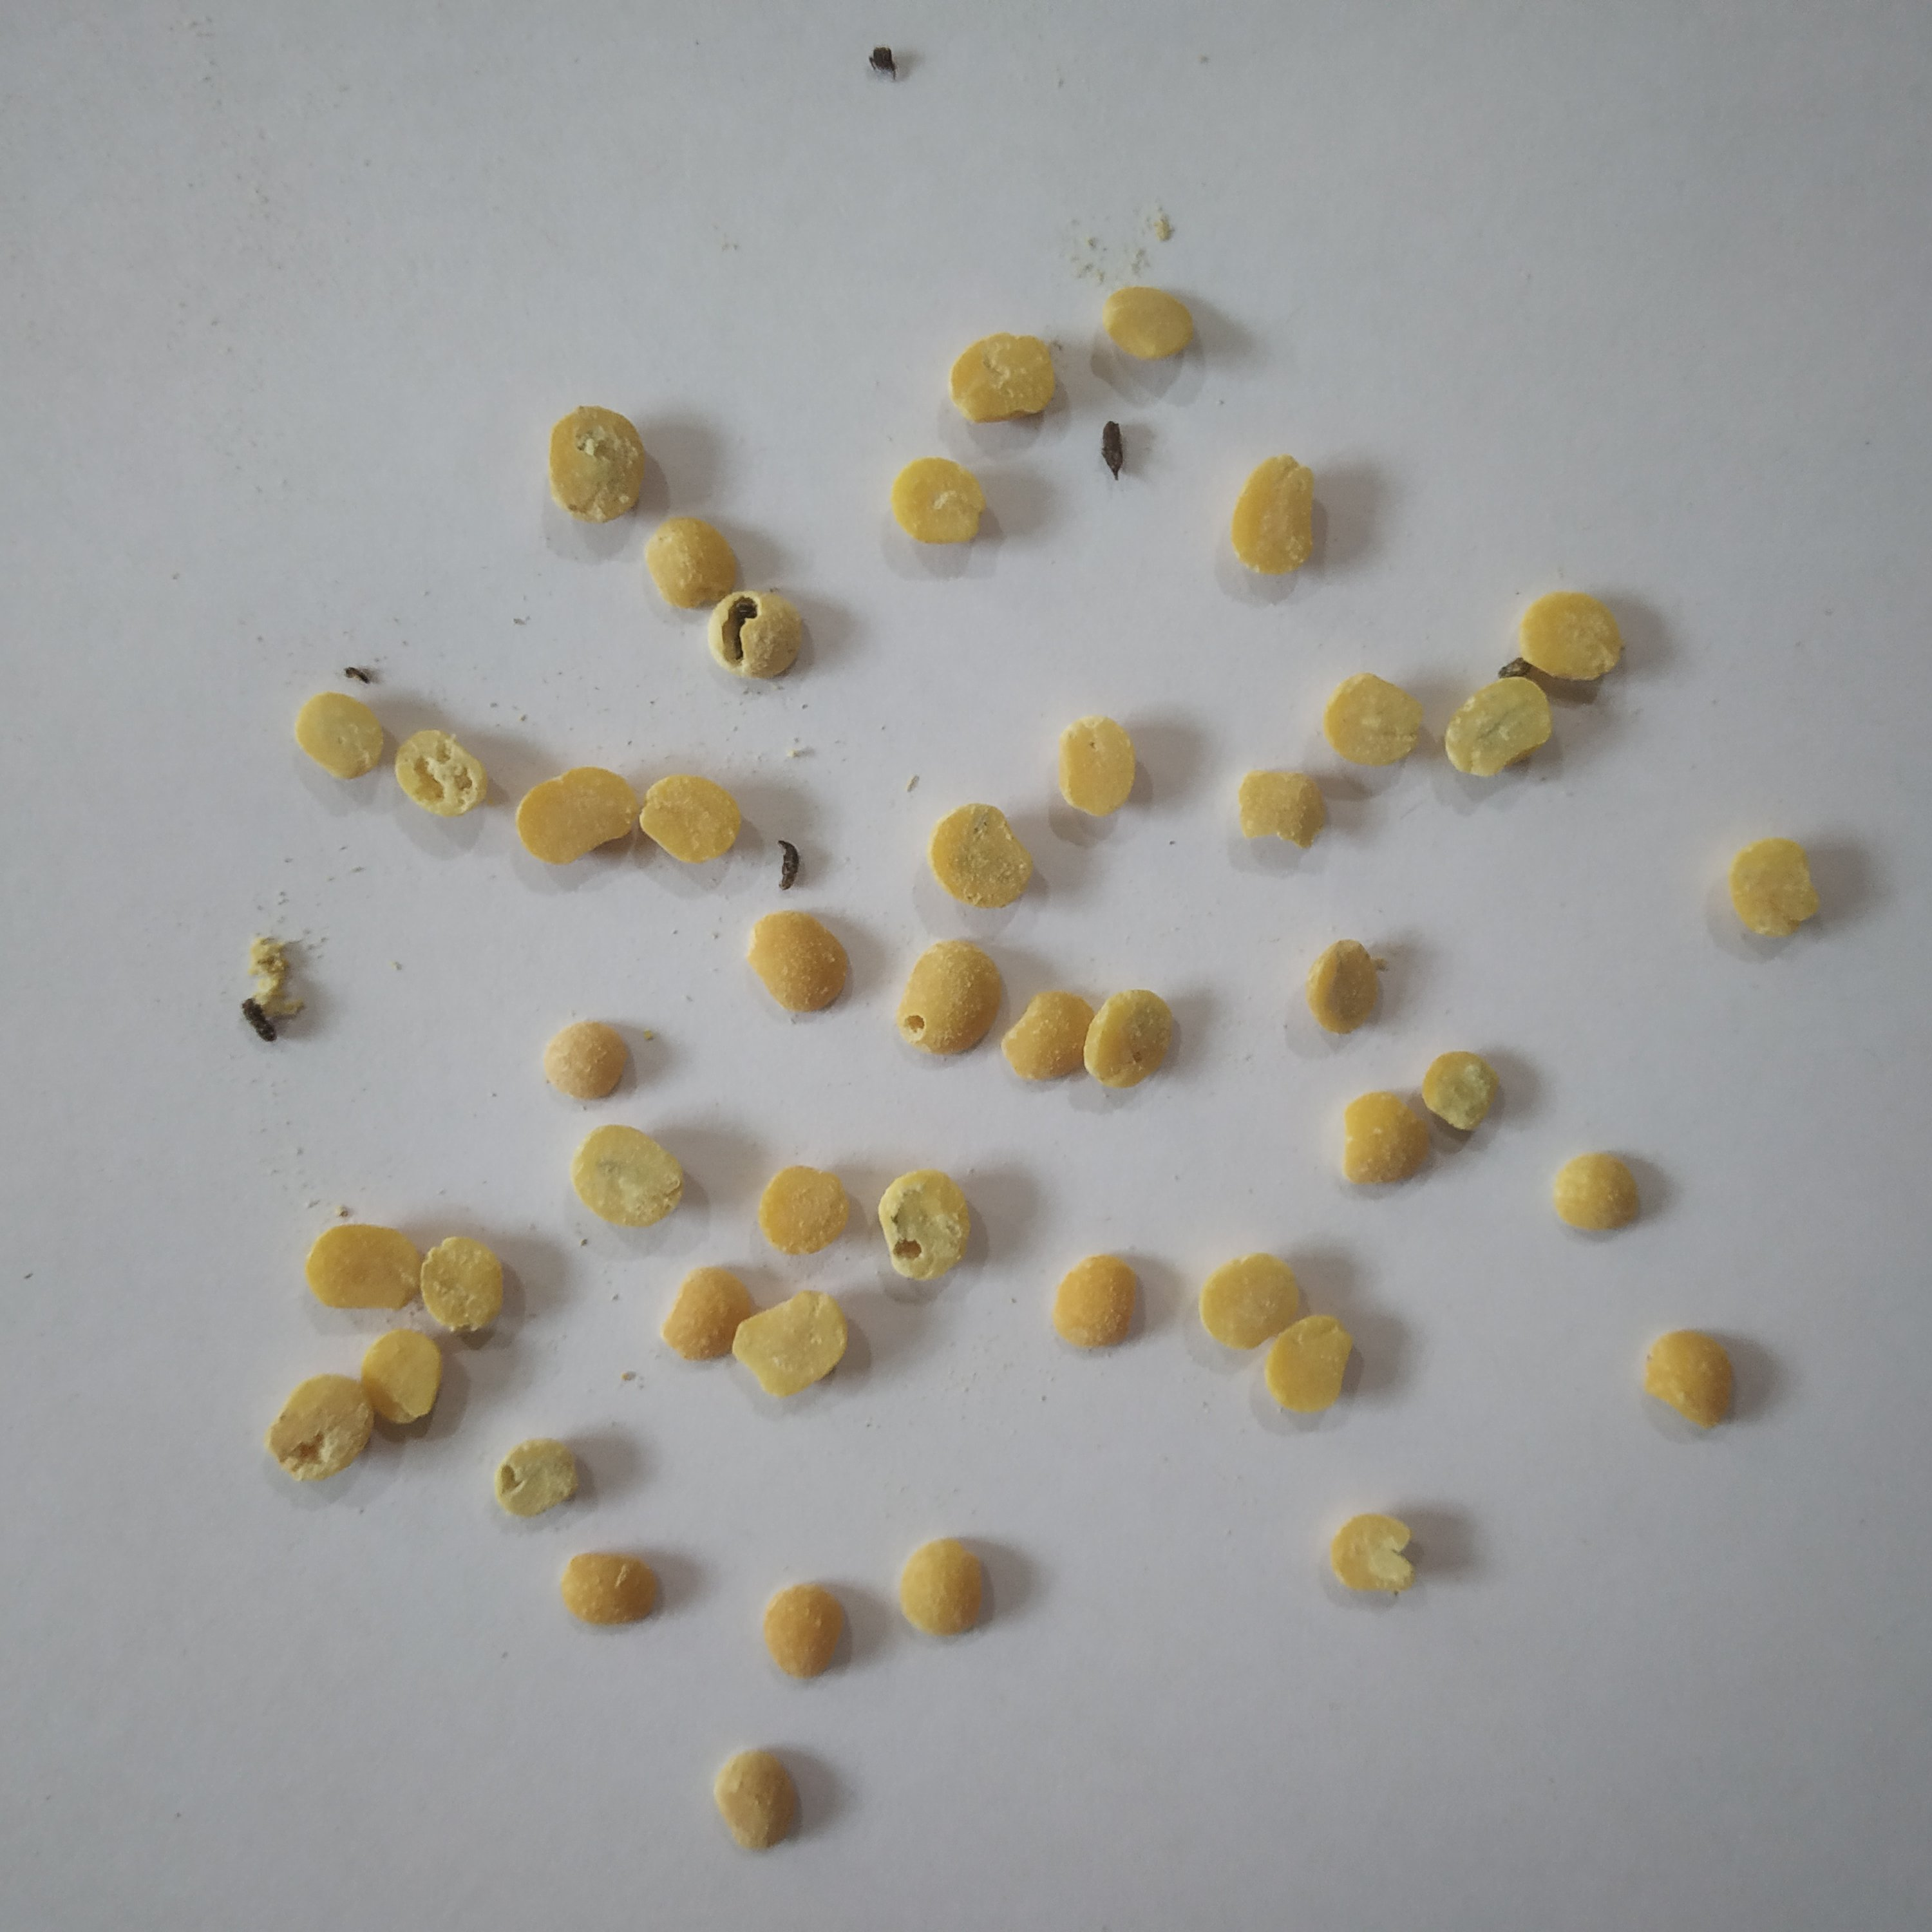Broken Toor Dal: (727, 1286, 851, 1405), (1442, 674, 1559, 782), (1226, 453, 1318, 580), (1320, 669, 1433, 770), (1638, 1325, 1736, 1433), (656, 1261, 752, 1364), (998, 987, 1093, 1083), (1235, 764, 1329, 853), (241, 931, 308, 1049)
Good Toor Dal: (566, 1122, 686, 1233), (511, 763, 639, 865), (924, 800, 1037, 915), (1192, 1246, 1307, 1352), (743, 908, 853, 1017), (945, 327, 1058, 428), (1514, 587, 1628, 686), (1723, 833, 1826, 941), (1261, 1309, 1359, 1422), (303, 1223, 426, 1311), (888, 455, 996, 552), (1336, 1086, 1435, 1191), (635, 775, 747, 867), (414, 1230, 508, 1338), (755, 1159, 853, 1261), (761, 1580, 855, 1686), (711, 1744, 798, 1856), (895, 1534, 987, 1638), (640, 517, 741, 610), (1051, 1251, 1141, 1355), (1053, 709, 1139, 817), (288, 688, 386, 782), (356, 1329, 446, 1428), (554, 1548, 660, 1629), (1550, 1148, 1642, 1237), (538, 1019, 632, 1106), (1302, 936, 1384, 1035), (1099, 285, 1196, 363), (1421, 1047, 1500, 1136)
Infested Toor Dal: (893, 938, 1007, 1060), (543, 400, 648, 527), (264, 1373, 379, 1484), (870, 1162, 973, 1286), (706, 586, 807, 685), (387, 725, 490, 821), (1083, 987, 1175, 1092), (1327, 1509, 1421, 1601), (492, 1431, 582, 1525)
Live Infestation: (1095, 416, 1131, 483), (770, 833, 800, 892)
